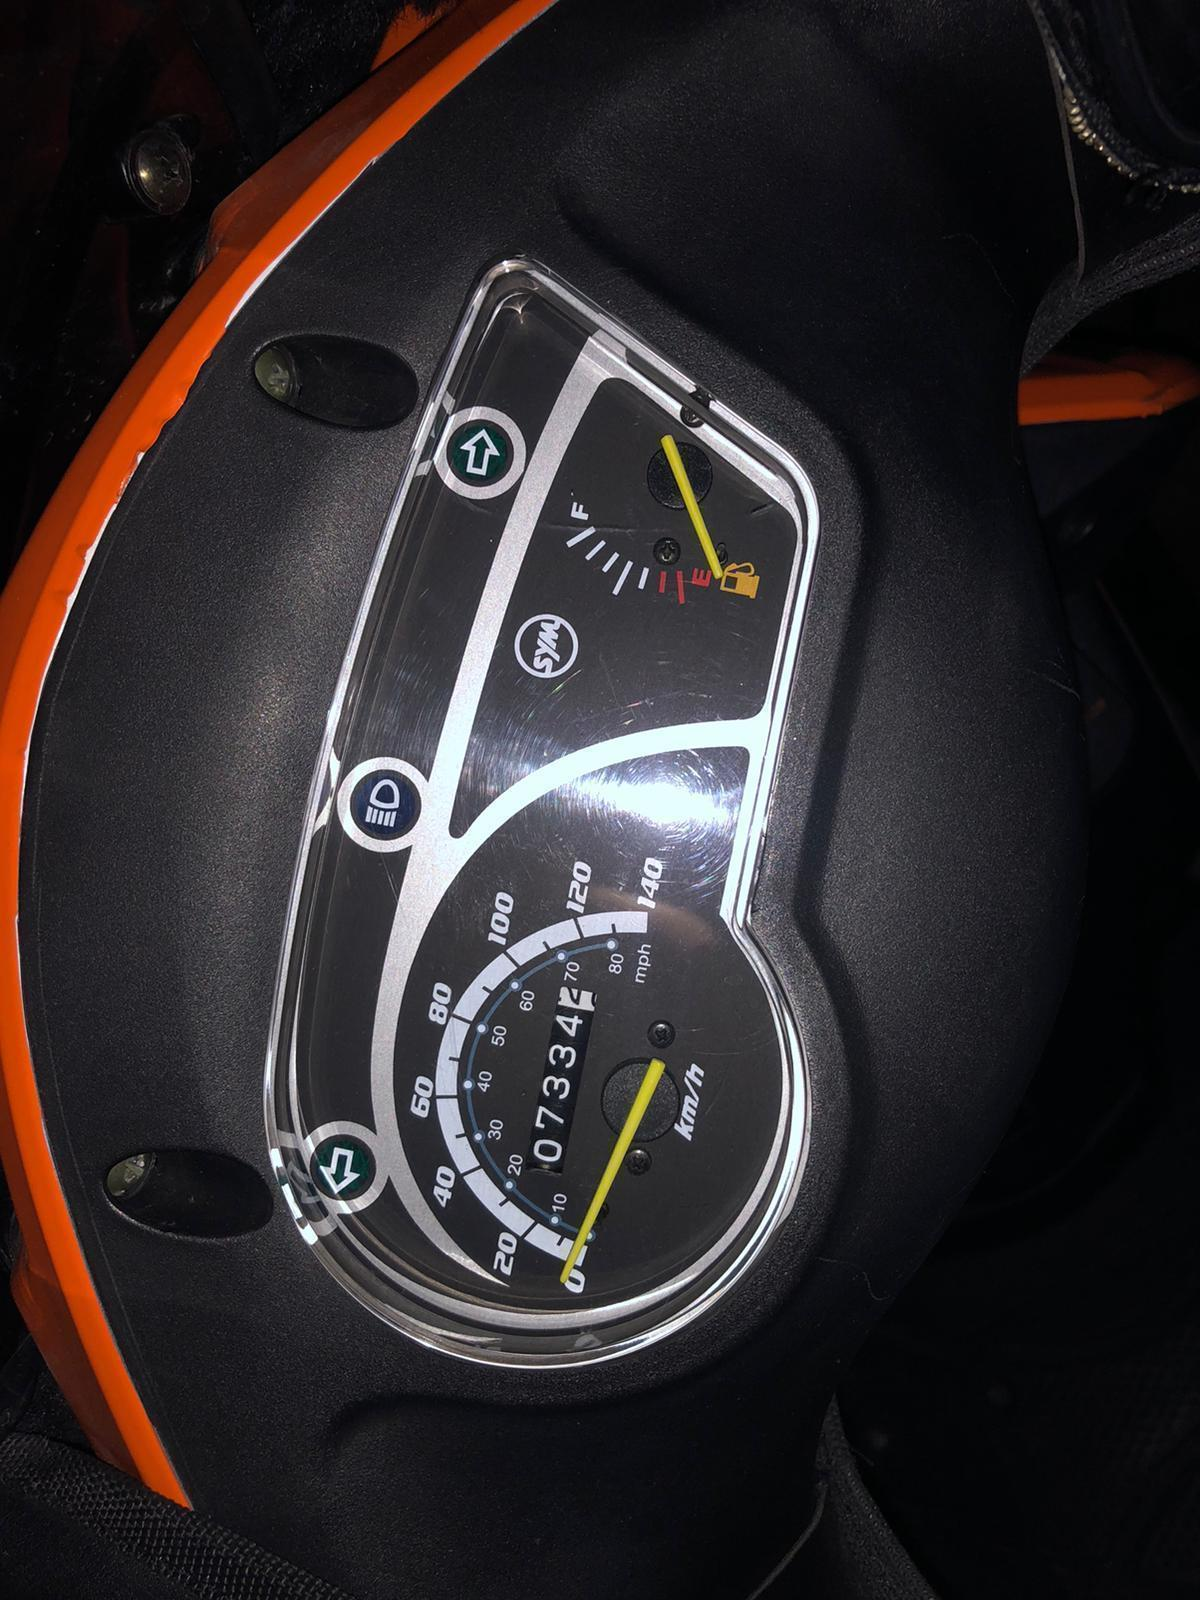0: (531, 1136, 563, 1163)
2: (552, 986, 584, 1004)
3: (546, 1043, 579, 1070), (539, 1075, 571, 1099)
4: (553, 1012, 585, 1037)
7: (533, 1104, 567, 1129)
odometer: (529, 981, 600, 1180)
